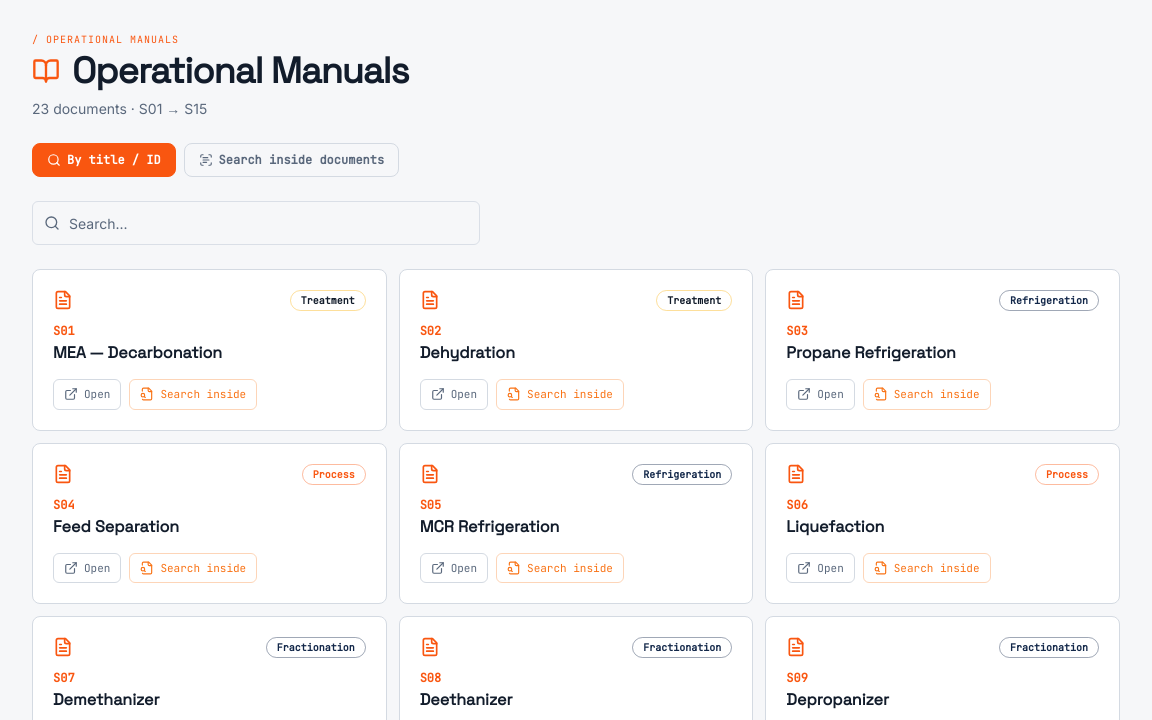
Test: Manuals page — operational manual section › copies the excerpts of a hit to the clipboard
Click the button "Search inside documents".
click(291, 160)  # box left=184, top=143, right=399, bottom=177
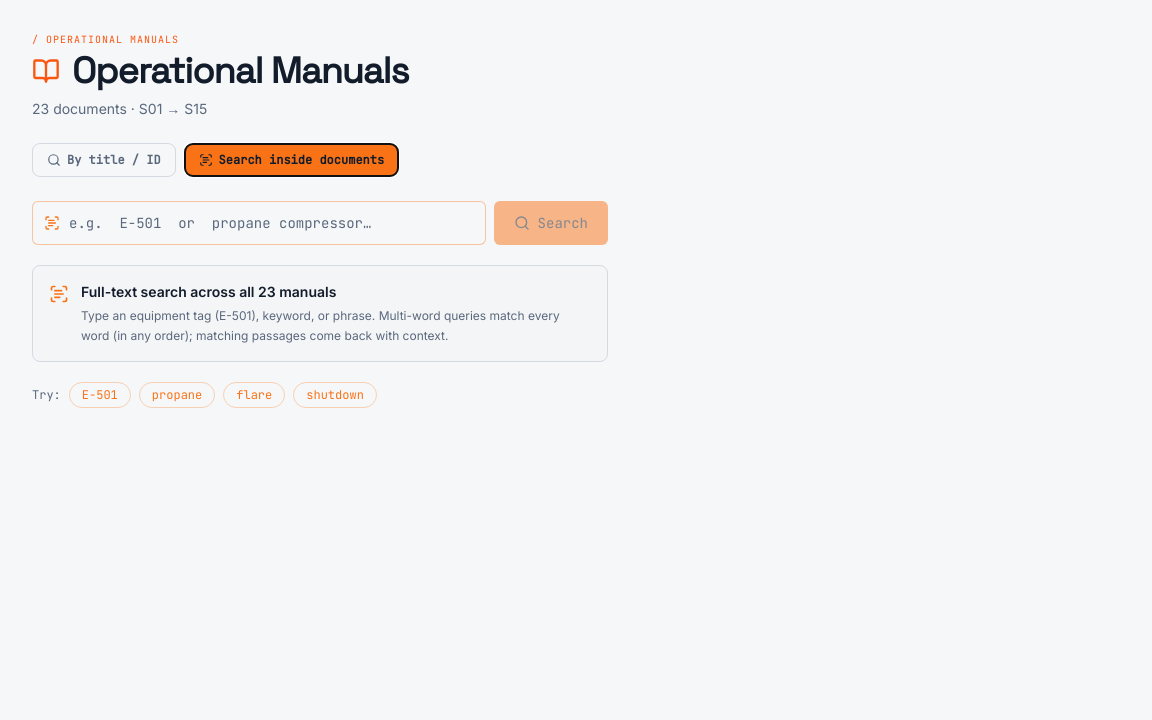
Type "bed" into the field.
click(259, 223); type("bed")  # box left=32, top=201, right=486, bottom=245
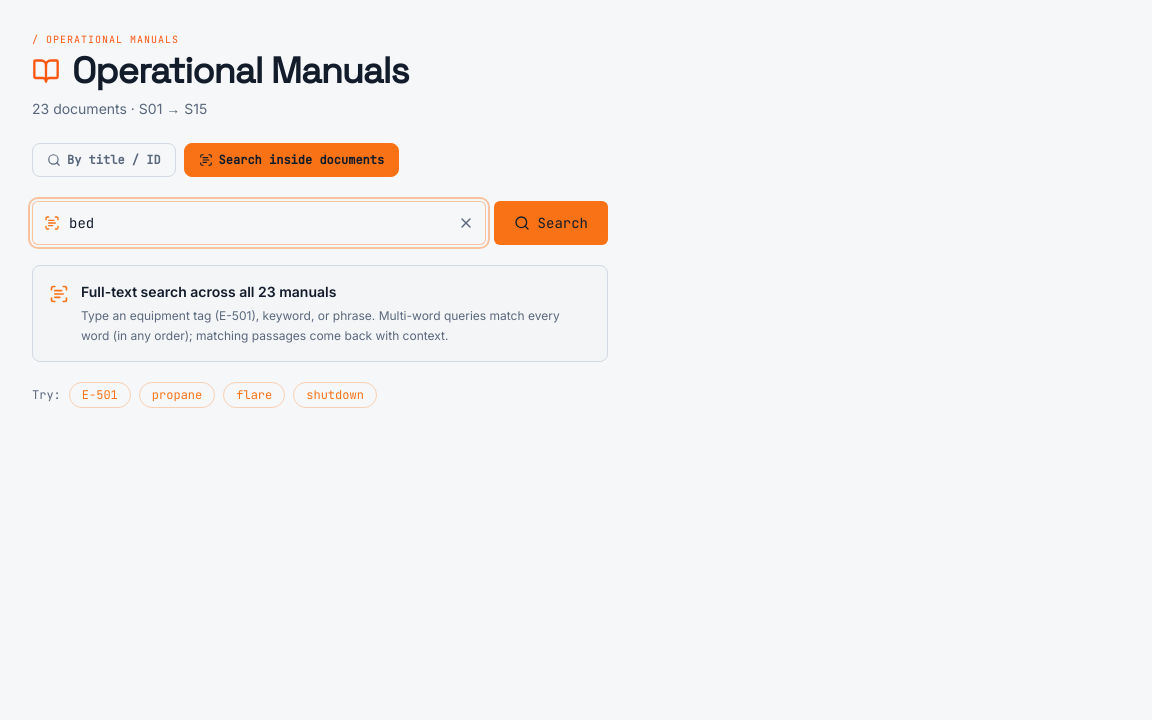
Click the button "Search".
click(551, 223)  # box left=494, top=201, right=608, bottom=245
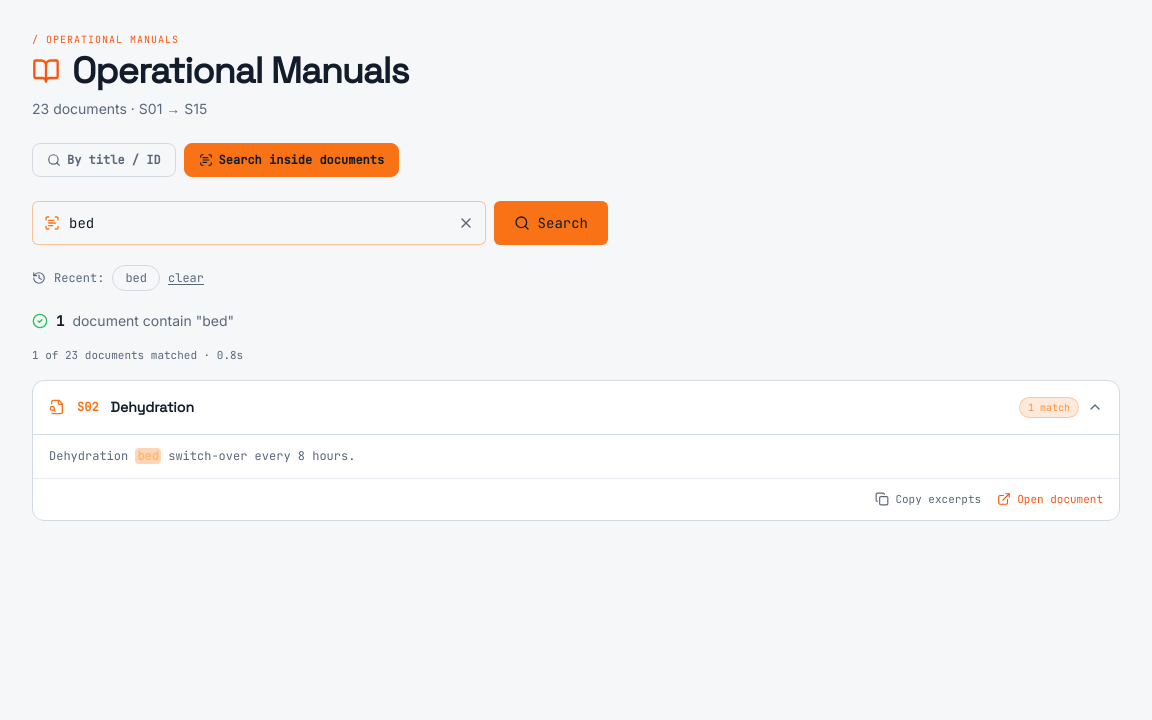
Check: the text "1 of 23 documents matched · 0.8s" is shown, box left=32, top=348, right=243, bottom=362
Click the button "Copy excerpts".
click(928, 499)  # box left=875, top=491, right=981, bottom=508
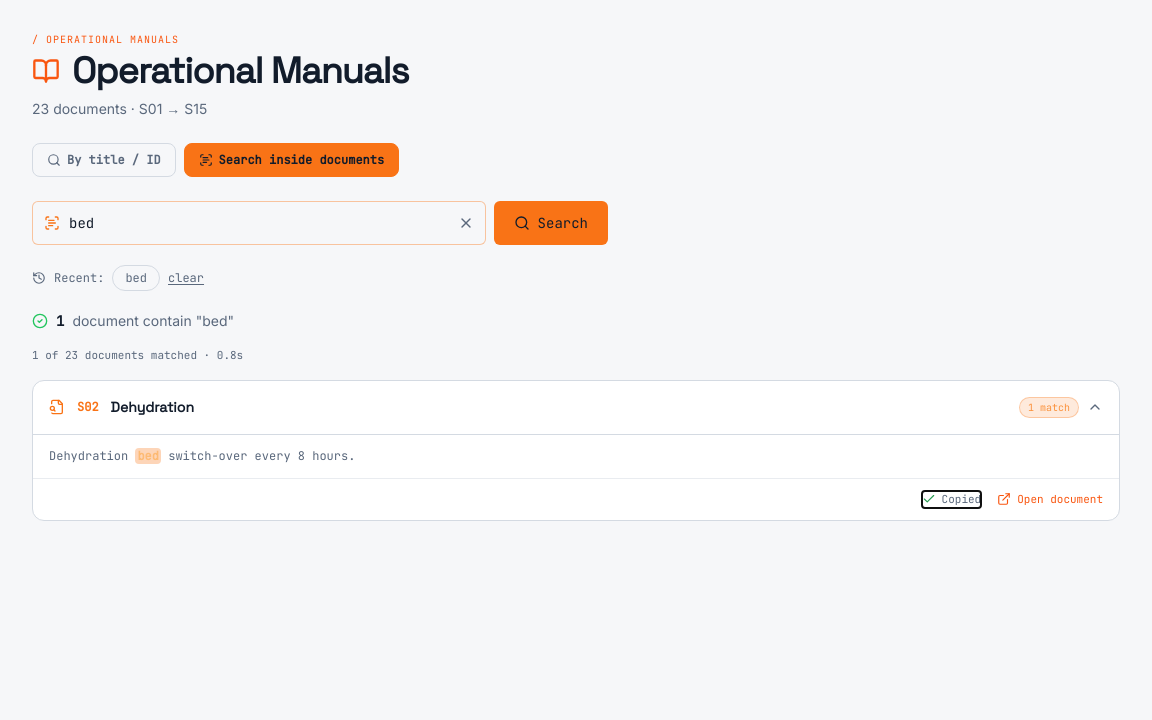
Check: the button "Copied" is shown, box left=922, top=491, right=981, bottom=508
